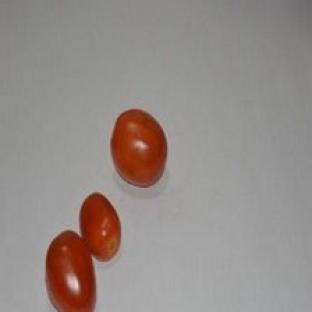Tomato: (111, 109, 167, 186), (46, 230, 96, 311), (80, 193, 121, 261)
